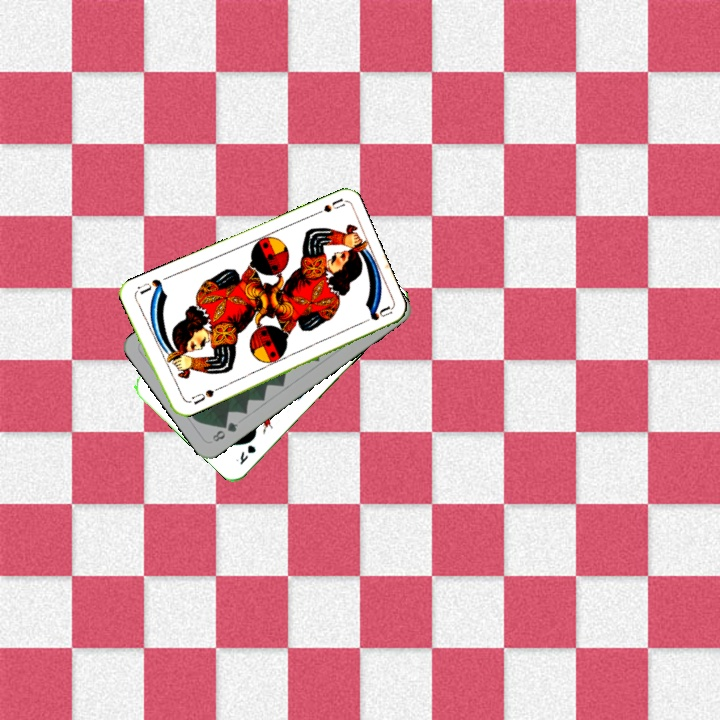G8: (208, 418, 241, 445)
GK: (236, 441, 259, 467)
SU: (306, 195, 346, 220), (188, 385, 217, 407)
